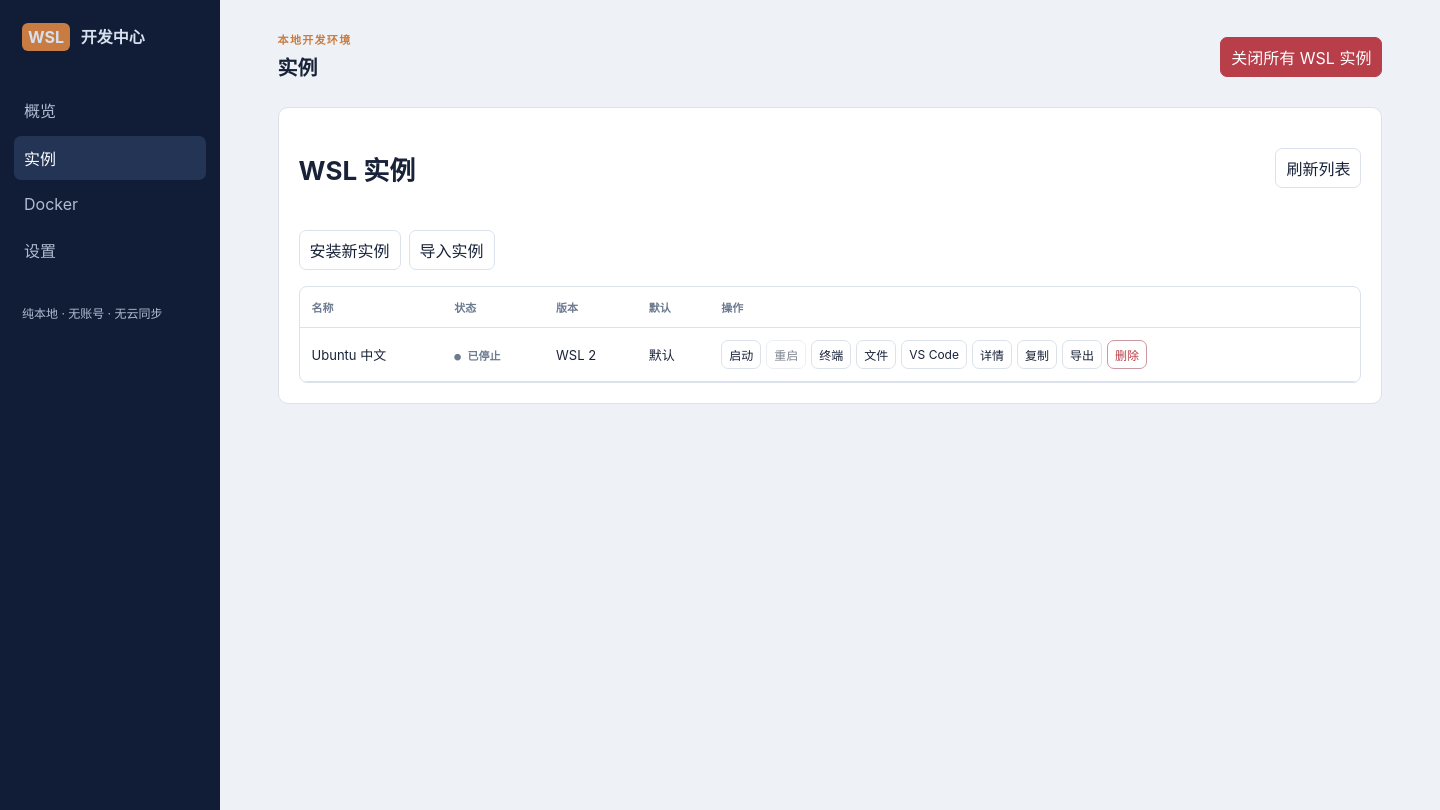
Scenario: WSL 操作与刷新 › 操作完成后重新查询，不复用操作前尚未完成的列表
The image size is (1440, 810).
Step 1. Click the button "刷新列表" → {"x": 1318, "y": 168}, box left=1275, top=148, right=1361, bottom=188
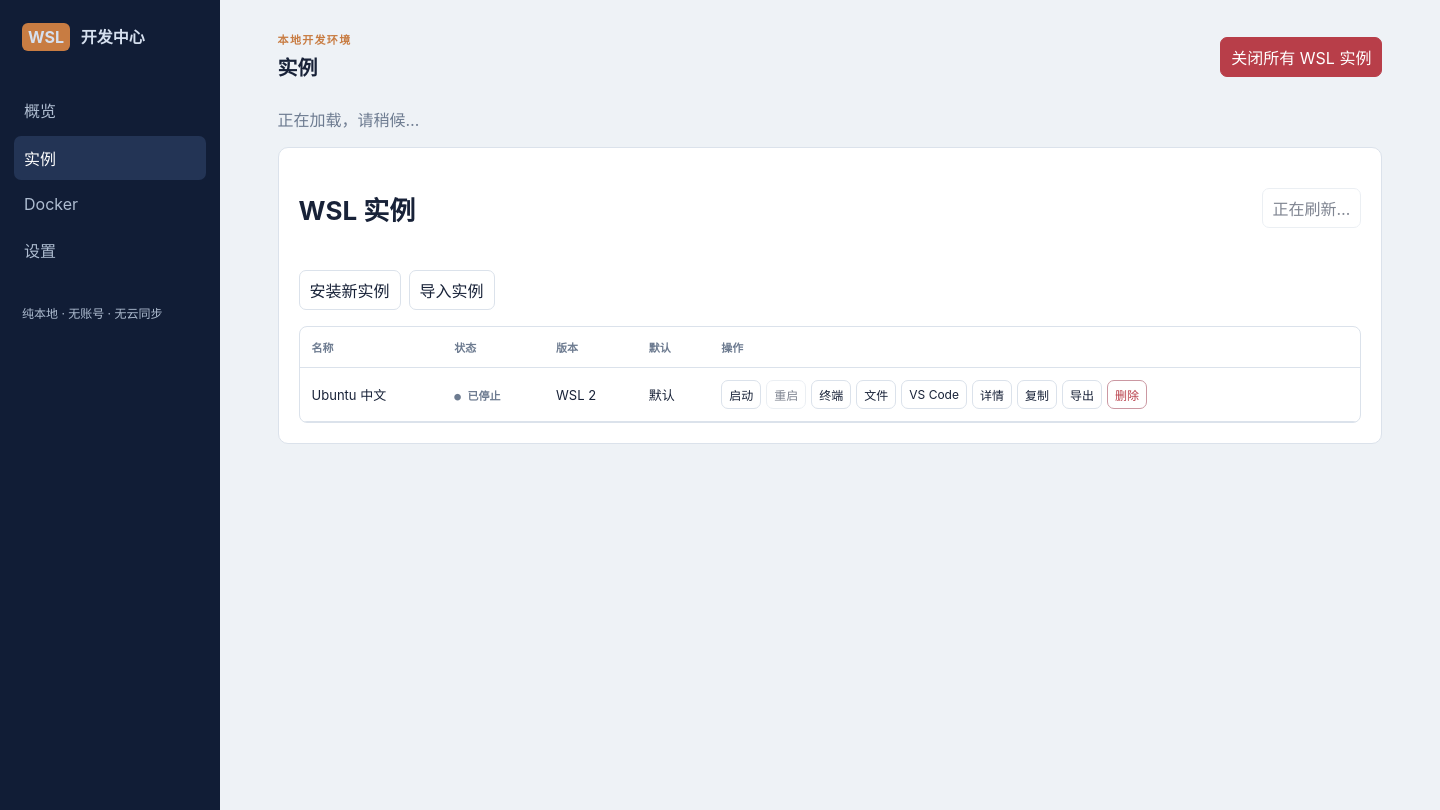
Step 2. Click the button "启动" → {"x": 741, "y": 395}, box left=721, top=380, right=761, bottom=409
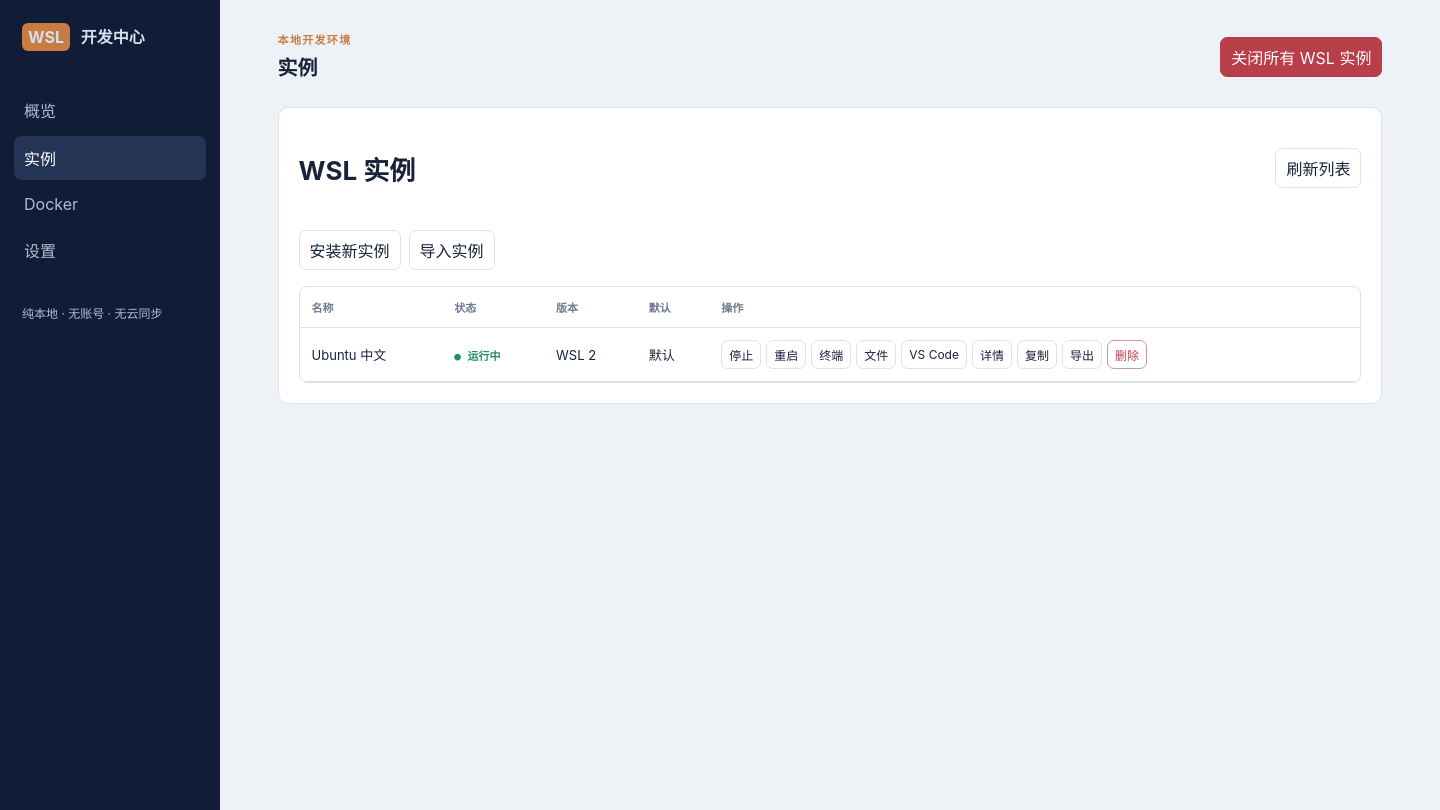
Result: the button "停止" is shown at left=721, top=340, right=761, bottom=369
